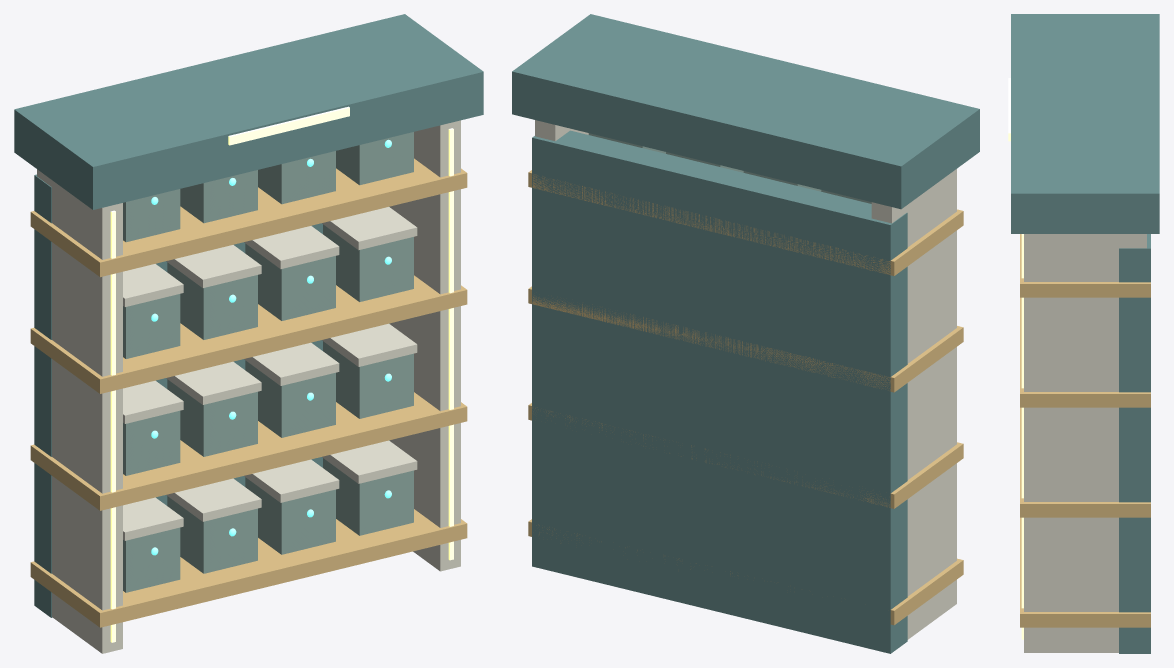
File: smart-storage-rack.glb
3 views of the same model, side by side, from view 1: azimuth 30°, elevation 25°; view 2: azimuth 150°, elevation 25°; view 3: azimuth 270°, elevation 25° (orthographic). The views are drawn at different scales.
Visible parts, largest first — view 1: rack.header, rack.post.-1.15, rack.post.1.15, rack.shelf.0, rack.shelf.3, rack.shelf.2, rack.shelf.1, rack.backbone, rack.container.0.3, rack.container.0.1, rack.container.0.2, rack.container.1.2 (+27 smaller); view 2: rack.backbone, rack.header, rack.post.-1.15, rack.shelf.2, rack.shelf.3, rack.shelf.1, rack.shelf.0; view 3: rack.post.1.15, rack.header, rack.backbone, rack.shelf.0, rack.shelf.1, rack.shelf.2, rack.shelf.3, rack.post.glow.1.15.
Part boxes in pixels (x1,y1,x2,y2): rack.header: [14, 14, 483, 209]; rack.post.-1.15: [37, 169, 122, 653]; rack.post.1.15: [390, 120, 460, 571]; rack.shelf.0: [30, 509, 467, 627]; rack.shelf.3: [30, 158, 467, 277]; rack.shelf.2: [30, 275, 467, 393]; rack.shelf.1: [30, 392, 467, 510]; rack.backbone: [34, 174, 389, 617]; rack.container.0.3: [323, 458, 413, 535]; rack.container.0.1: [167, 496, 257, 573]; rack.container.0.2: [245, 477, 335, 554]; rack.container.1.2: [245, 360, 335, 437]; rack.backbone: [532, 130, 907, 653]; rack.header: [512, 14, 979, 209]; rack.post.-1.15: [871, 169, 956, 639]; rack.shelf.2: [528, 286, 963, 392]; rack.shelf.3: [528, 170, 963, 275]; rack.shelf.1: [528, 403, 963, 508]; rack.shelf.0: [528, 519, 963, 625]; rack.post.1.15: [1024, 234, 1146, 652]; rack.header: [1011, 14, 1159, 233]; rack.backbone: [1119, 234, 1150, 653]; rack.shelf.0: [1020, 517, 1150, 627]; rack.shelf.1: [1020, 407, 1150, 517]; rack.shelf.2: [1020, 297, 1150, 407]; rack.shelf.3: [1020, 234, 1150, 297]; rack.post.glow.1.15: [1021, 234, 1023, 639].
Size of the model in its own units: 2.66 by 3.23 by 0.9475.
